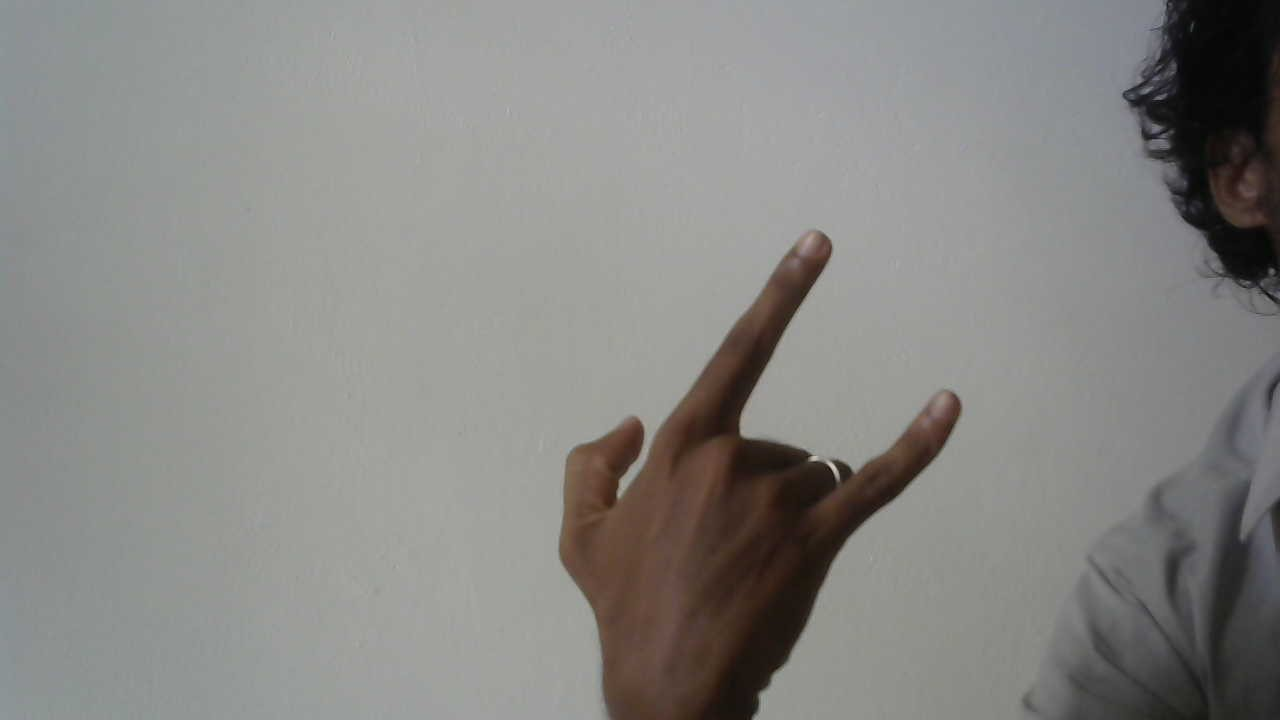iloveyou: (551, 223, 955, 662)
